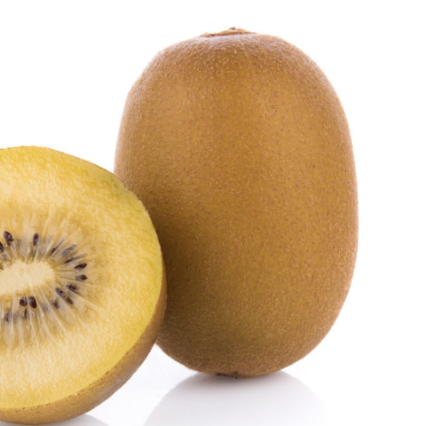kiwi: (73, 14, 405, 418)
